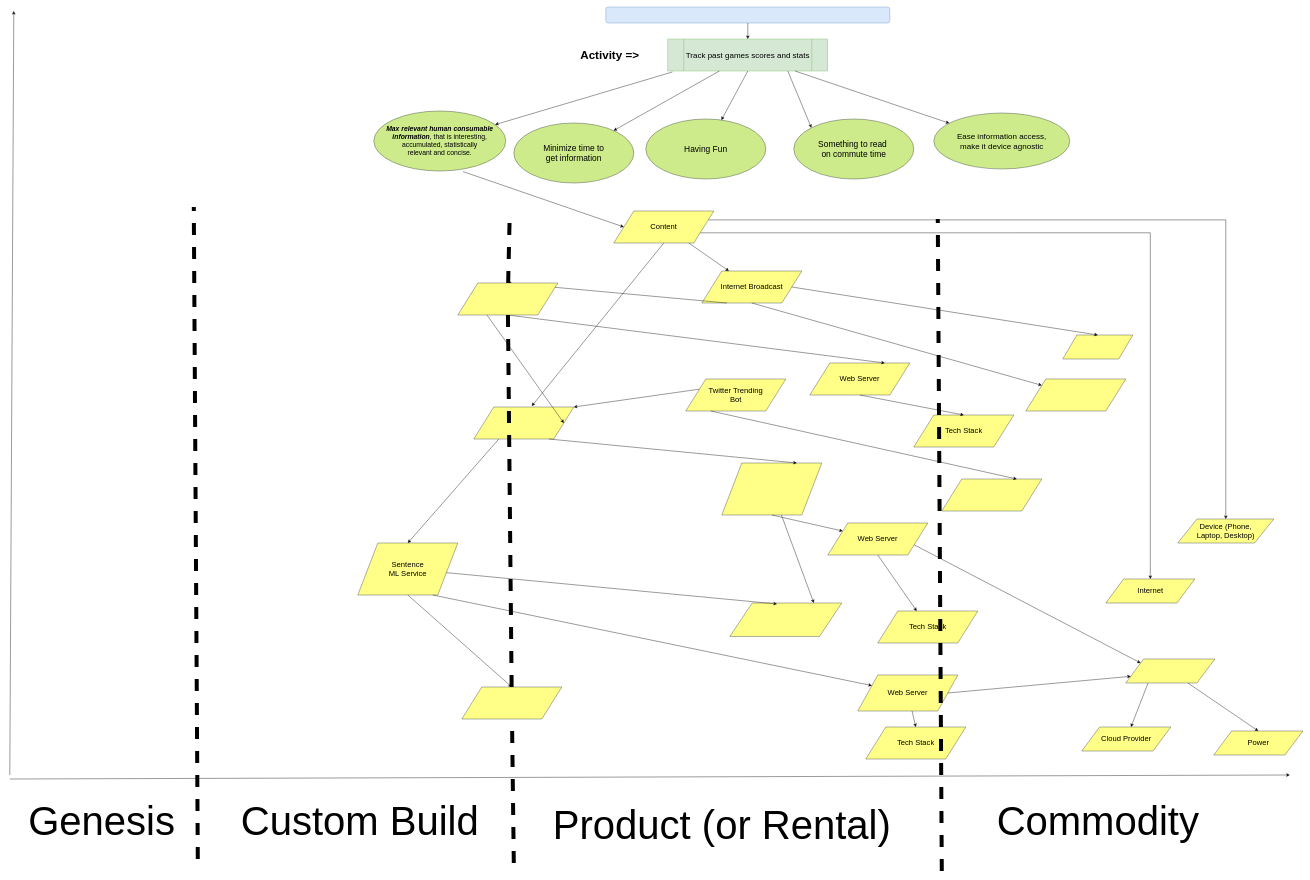
Image size: 1310x880. Some labels were removed from this diagram. Here are the shapes that lost their labels. From the top down, the box of each, then its label:
(605, 7, 890, 23): Sports Fan
(457, 283, 558, 315): Web app (getdailyscore.com)
(1062, 335, 1133, 359): Email
(1025, 379, 1126, 411): Social Media ( Twitter )
(473, 407, 574, 439): Content Generator
(721, 463, 822, 515): Chart Service
(941, 479, 1042, 511): Twitter API
(729, 603, 842, 637): Data feeding api (nba.com)
(1125, 659, 1215, 683): Compute
(461, 687, 562, 719): ML Algorithm
